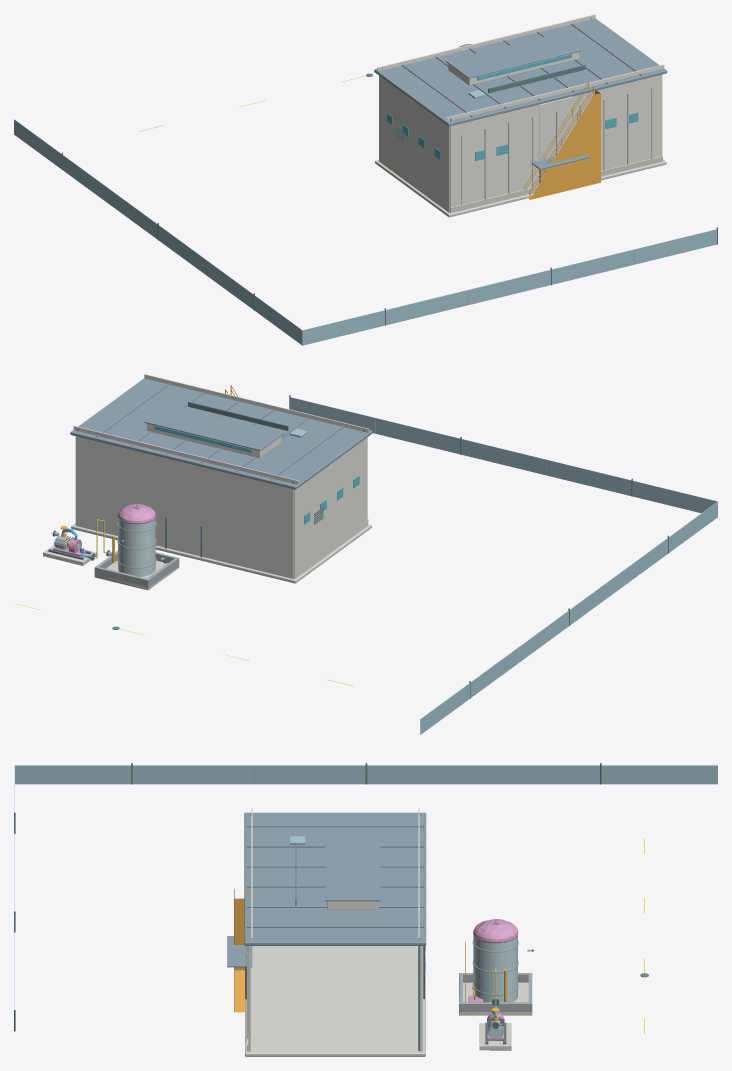
3 views of the same model, one above another, from view 1: azimuth 30°, elevation 25°; view 2: azimuth 150°, elevation 25°; view 3: azimuth 270°, elevation 25° (orthographic). The views are drawn at different scales.
Parts seen in each view (by area): view 1: render-batch-12, render-batch-4, render-batch-5, render-batch-13, render-batch-10, render-batch-2, render-batch-3; view 2: render-batch-12, render-batch-4, render-batch-5, render-batch-10, render-batch-8, render-batch-6, render-batch-3, render-batch-9, render-batch-2; view 3: render-batch-4, render-batch-10, render-batch-5, render-batch-8, render-batch-12, render-batch-13, render-batch-9, render-batch-6, render-batch-3.
Boxes of the visible parts, left/top/right/bottom form: render-batch-12: left=377, top=14, right=664, bottom=212; render-batch-4: left=374, top=18, right=667, bottom=169; render-batch-5: left=14, top=90, right=716, bottom=345; render-batch-13: left=524, top=82, right=600, bottom=199; render-batch-10: left=375, top=88, right=666, bottom=217; render-batch-2: left=387, top=54, right=638, bottom=160; render-batch-3: left=61, top=18, right=717, bottom=325; render-batch-12: left=73, top=374, right=369, bottom=578; render-batch-4: left=70, top=378, right=372, bottom=489; render-batch-5: left=289, top=397, right=717, bottom=734; render-batch-10: left=43, top=519, right=371, bottom=590; render-batch-8: left=54, top=517, right=155, bottom=576; render-batch-6: left=94, top=550, right=179, bottom=590; render-batch-3: left=77, top=395, right=668, bottom=698; render-batch-9: left=53, top=504, right=155, bottom=556; render-batch-2: left=154, top=425, right=359, bottom=524; render-batch-4: left=227, top=812, right=426, bottom=967; render-batch-10: left=245, top=946, right=532, bottom=1056; render-batch-5: left=14, top=765, right=717, bottom=1009; render-batch-8: left=473, top=934, right=517, bottom=1038; render-batch-12: left=248, top=808, right=422, bottom=1051; render-batch-13: left=234, top=888, right=506, bottom=1021; render-batch-9: left=468, top=919, right=518, bottom=1040; render-batch-6: left=459, top=973, right=532, bottom=1015; render-batch-3: left=14, top=763, right=648, bottom=1050.
Bounding box in the file's own units: 56.52 × 12.15 × 61.49.
